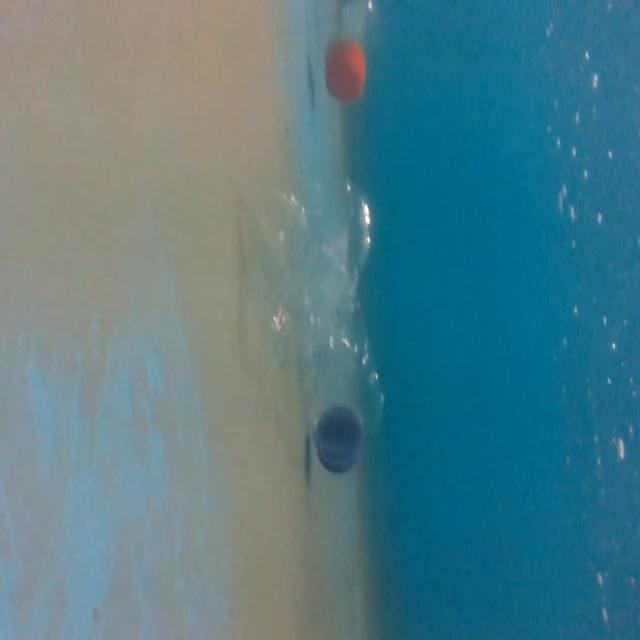plastic bottle: (258, 165, 394, 483), (300, 0, 392, 107)
